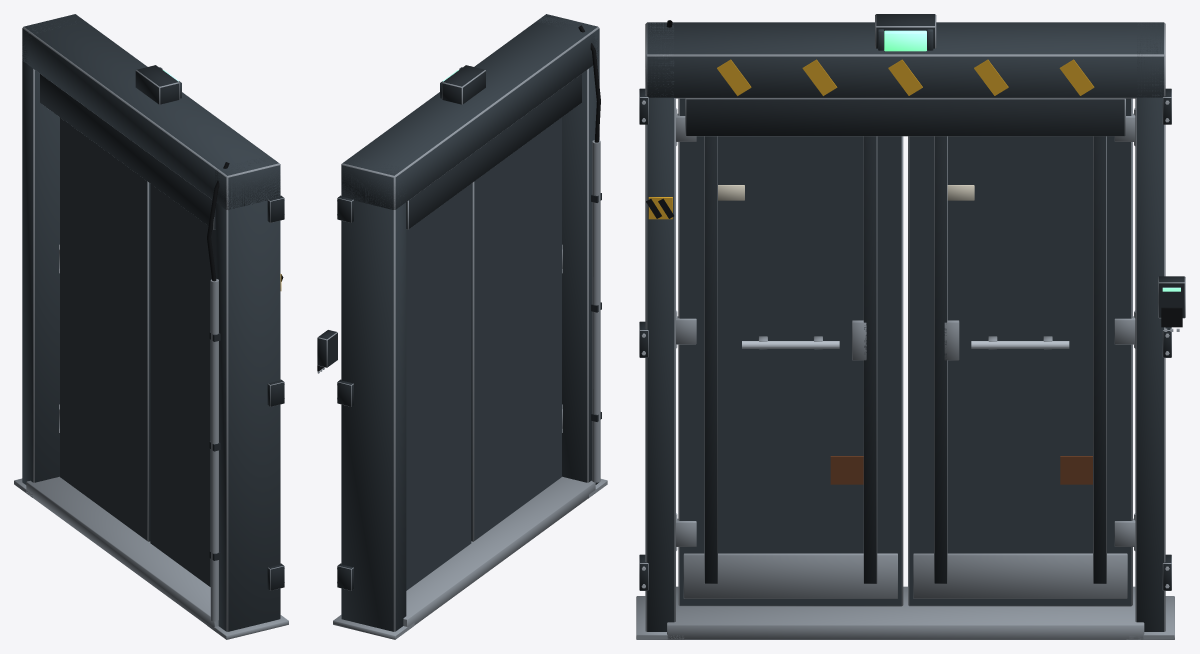
Rendered from puerta_seguridad.glb.
3 renders of one model, left to right at view 1: azimuth 30°, elevation 25°; view 2: azimuth 150°, elevation 25°; view 3: azimuth 270°, elevation 25°, orthographic. The views are drawn at different scales.
Visible parts, largest first — view 1: mov_hoja_der, jamba_1, mov_hoja_izq, dintel, jamba_2, umbral, cabecera, conducto, caja_luz, placa_anclaje_1, cable, refuerzo_jamba_2 (+2 smaller); view 2: mov_hoja_izq, jamba_2, mov_hoja_der, dintel, jamba_1, umbral, cabecera, conducto, caja_luz, lector, placa_anclaje_2, cable; view 3: mov_hoja_izq, mov_hoja_der, dintel, cabecera, jamba_2, jamba_1, umbral, caja_luz, lente_estado, lector.
Boxes of the visible parts, bbox=[...] form: mov_hoja_der: bbox=[59, 117, 150, 541]; jamba_1: bbox=[215, 156, 280, 631]; mov_hoja_izq: bbox=[150, 184, 215, 586]; dintel: bbox=[22, 14, 280, 209]; jamba_2: bbox=[22, 18, 84, 484]; umbral: bbox=[26, 476, 218, 629]; cabecera: bbox=[40, 74, 215, 229]; conducto: bbox=[210, 279, 218, 621]; caja_luz: bbox=[135, 65, 179, 104]; placa_anclaje_1: bbox=[207, 615, 288, 639]; cable: bbox=[207, 162, 229, 281]; refuerzo_jamba_2: bbox=[267, 379, 284, 406]; mov_hoja_izq: bbox=[471, 117, 562, 541]; jamba_2: bbox=[341, 155, 406, 631]; mov_hoja_der: bbox=[406, 184, 471, 590]; dintel: bbox=[341, 14, 598, 209]; jamba_1: bbox=[536, 14, 599, 484]; umbral: bbox=[403, 476, 595, 626]; cabecera: bbox=[406, 74, 581, 229]; conducto: bbox=[592, 140, 600, 482]; caja_luz: bbox=[442, 65, 485, 104]; lector: bbox=[317, 330, 337, 367]; placa_anclaje_2: bbox=[333, 615, 414, 639]; cable: bbox=[578, 25, 600, 142]; mov_hoja_izq: bbox=[676, 98, 903, 606]; mov_hoja_der: bbox=[908, 98, 1135, 606]; dintel: bbox=[645, 22, 1165, 98]; cabecera: bbox=[685, 98, 1125, 136]; jamba_2: bbox=[1135, 22, 1165, 631]; jamba_1: bbox=[645, 22, 675, 631]; umbral: bbox=[667, 586, 1144, 639]; caja_luz: bbox=[875, 14, 936, 48]; lente_estado: bbox=[884, 30, 926, 51]; lector: bbox=[1158, 276, 1185, 318].
Size of the model in its own units: 0.3914 by 2.18 by 1.8.
